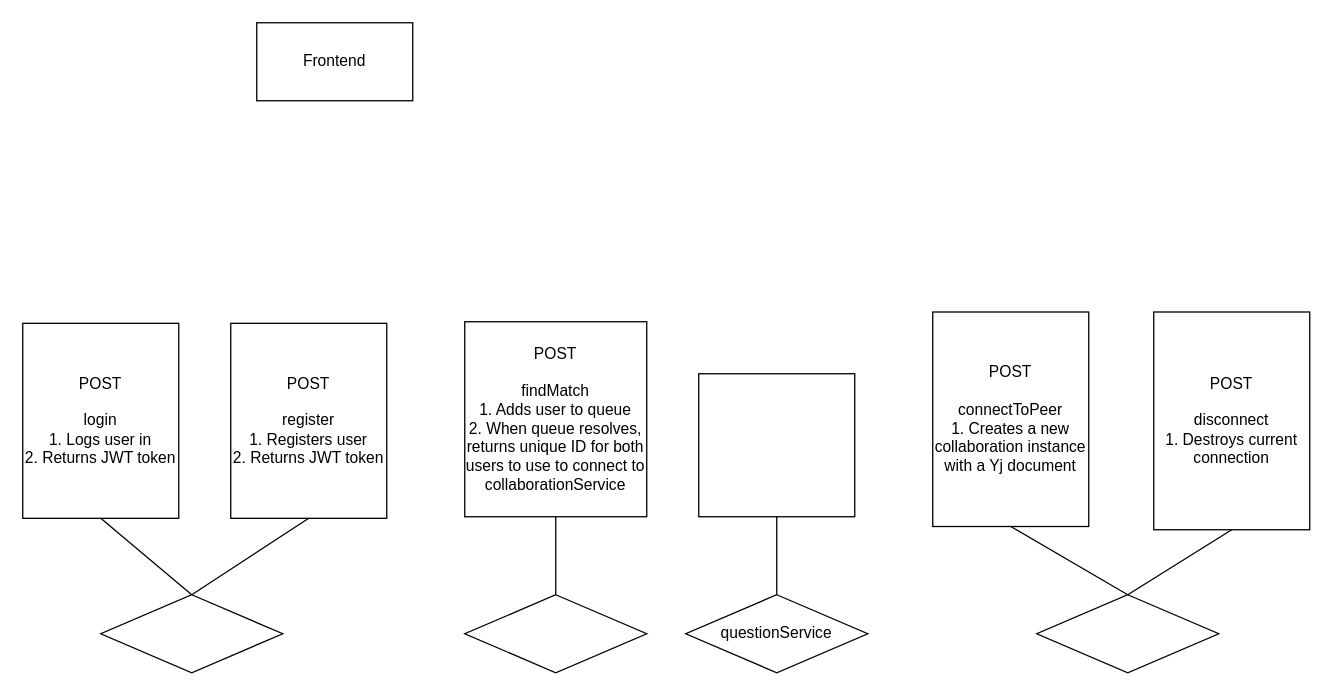
This 1333x696 diagram has some shape labels left out. Here are the shapes that lost their labels. From the top down, the centre of each, then its label:
At (x=776, y=444): "GET getQuestion 1. Gets a random question based on difficulty".
At (x=191, y=633): "userService".
At (x=555, y=633): "matchingService".
At (x=1127, y=633): "collaborationService".
